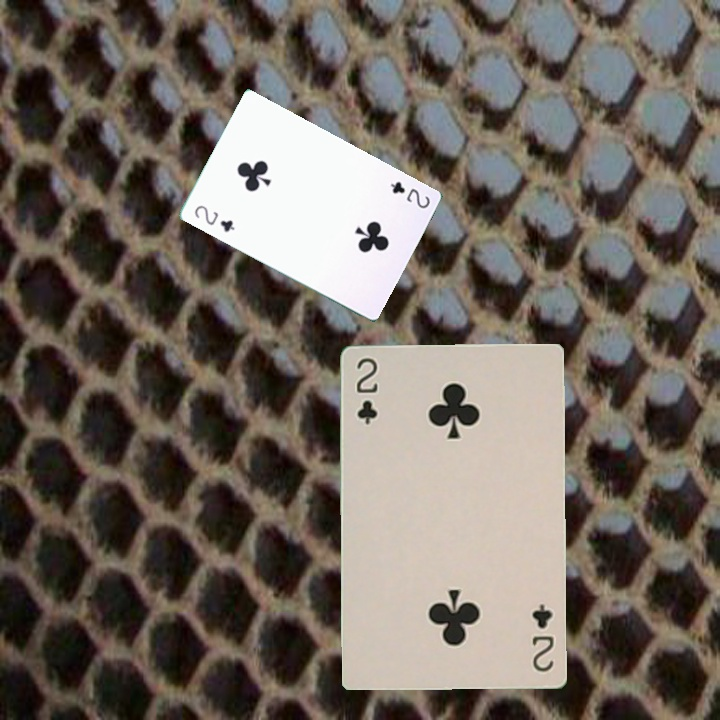2c: (528, 600, 557, 675), (352, 354, 381, 427), (190, 201, 237, 235), (386, 177, 433, 211)
